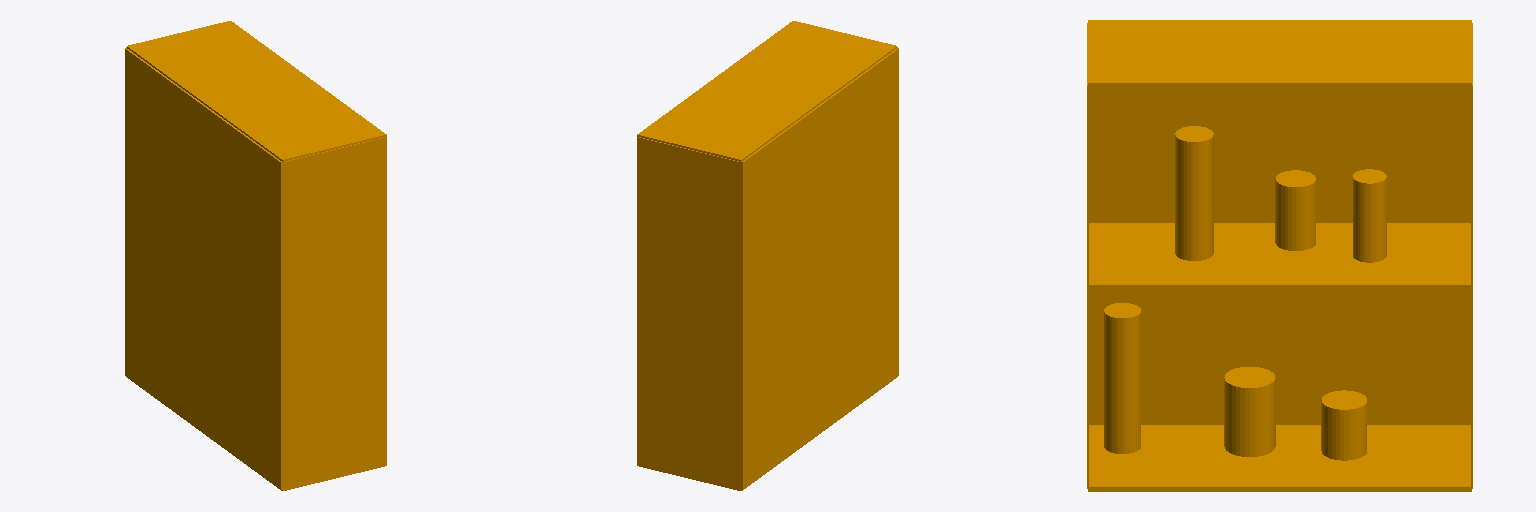
robot.urdf — syn_can_cabinet_2802:
<?xml version="1.0" ?>
<robot name="syn_can_cabinet_2802">
    <link concave="yes" name="base_link">
        <inertial>
            <origin rpy="0 0 0" xyz="0 0 0"/>
            <mass value="0.0"/>
            <inertia ixx="1e-08" ixy="0" ixz="0" iyy="1e-08" iyz="0" izz="1e-08"/>
        </inertial>
        <visual>
            <origin xyz="0 0 0" rpy="0 0 0" />
            <geometry>
                <mesh filename="syn_can_cabinet_2802.obj" scale="1.000000 1.000000 1.000000"/>
            </geometry>         
        </visual>

        <collision concave="yes">
            <origin xyz="0 0 0" rpy="0 0 0"/>
            <geometry>
                <mesh filename="syn_can_cabinet_2802.obj" scale="1.000000 1.000000 1.000000"/>
            </geometry>
        </collision>
    </link>
</robot>
    

--- Render facts (derived) ---
Views: 3 orthographic renders of the robot side by side, from view 1: azimuth 30°, elevation 25°; view 2: azimuth 150°, elevation 25°; view 3: azimuth 270°, elevation 25°.
Model syn_can_cabinet_2802 with 1 links and 0 joints (none), rooted at base_link, posed all joints at 0.
Links seen in each view (by area): view 1: base_link; view 2: base_link; view 3: base_link.
Link boxes in pixels (bbox=[...]): base_link: bbox=[125, 21, 386, 490]; base_link: bbox=[637, 21, 898, 490]; base_link: bbox=[1087, 20, 1472, 491].
Bounding box of the posed robot: 0.1906 × 0.4886 × 0.5691 m (x, y, z).
1 mesh visuals loaded from 1 distinct referenced files (1 OBJ).
